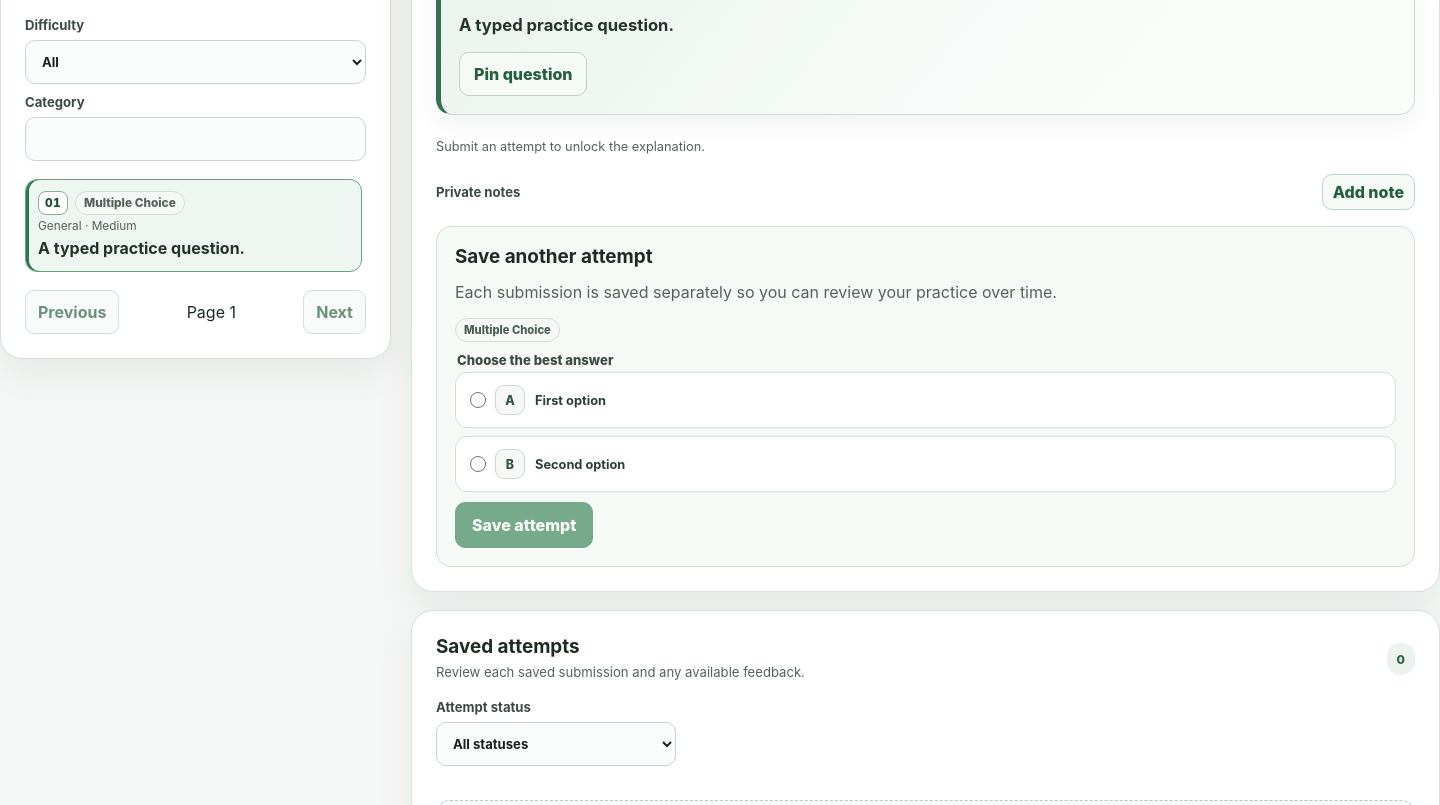
Test: InterviewSessionWorkspace typed question UX › keeps MCQ explanation locked before submission and shows deterministic result after save
(page scrolled)
Expected: the button "A typed practice question" is shown, [25,179,362,272]
Expected: the text "Submit an attempt to unlock the explanation." is shown, [436,140,705,154]
Click the radio button labelled "First option" at x=478, y=400, box [470,392,486,408]
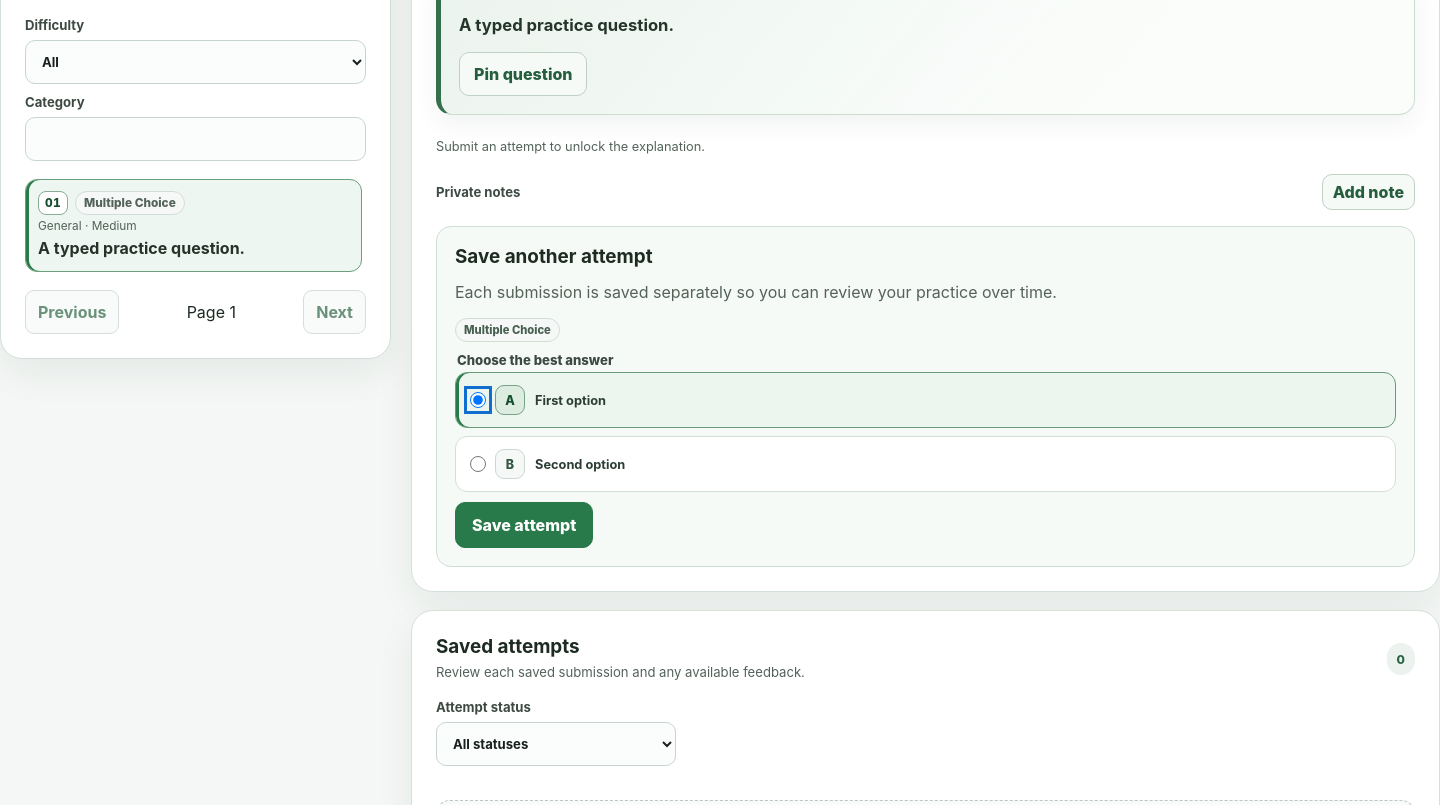
Click the button "Save attempt" at x=524, y=525, box [455,502,593,548]
(page scrolled)
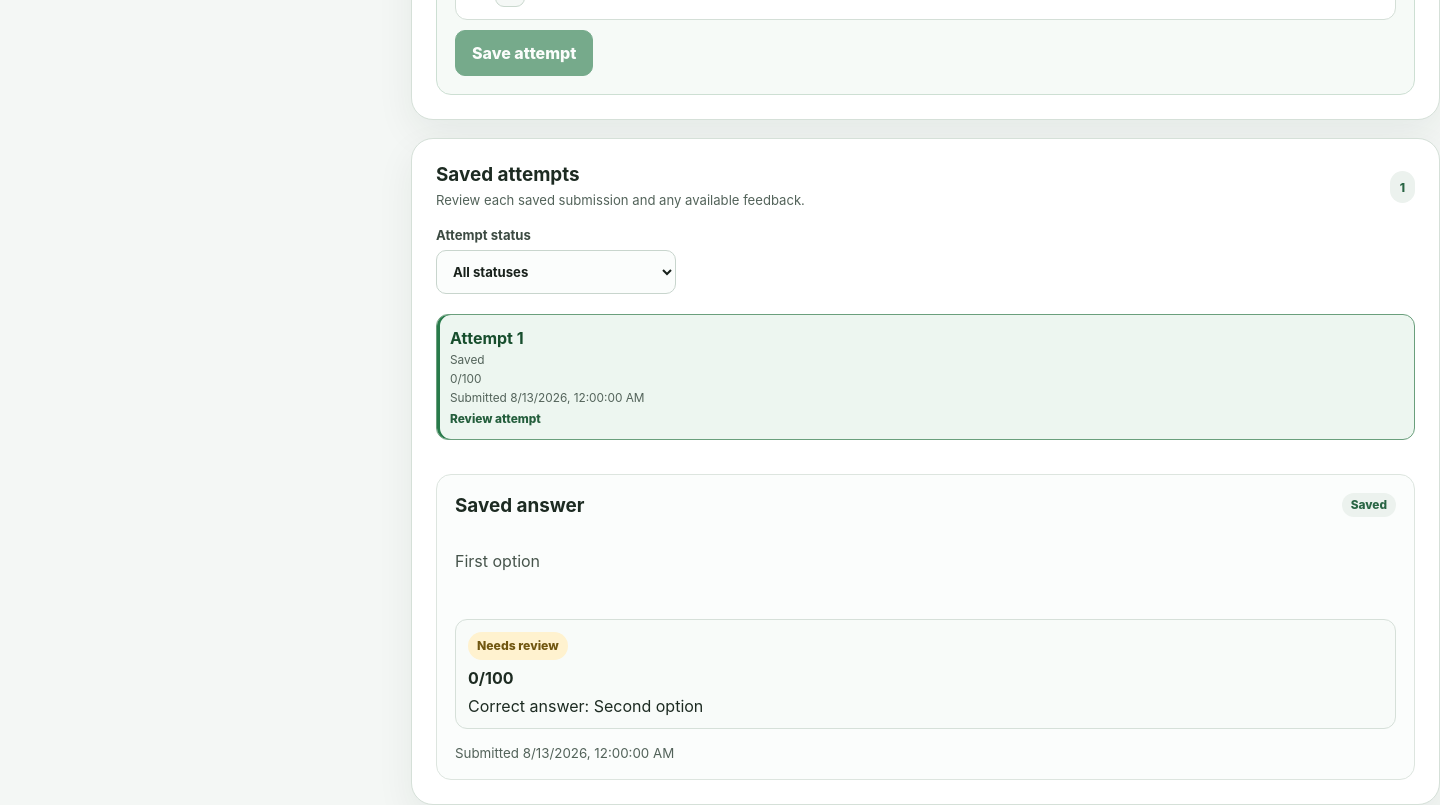
Expected: the text "Needs review" is shown, [477,638,559,654]
Expected: the text "0/100" below "Needs review" is shown, [468,668,514,688]
Expected: the text "Correct answer: Second option" is shown, [468,696,703,716]
